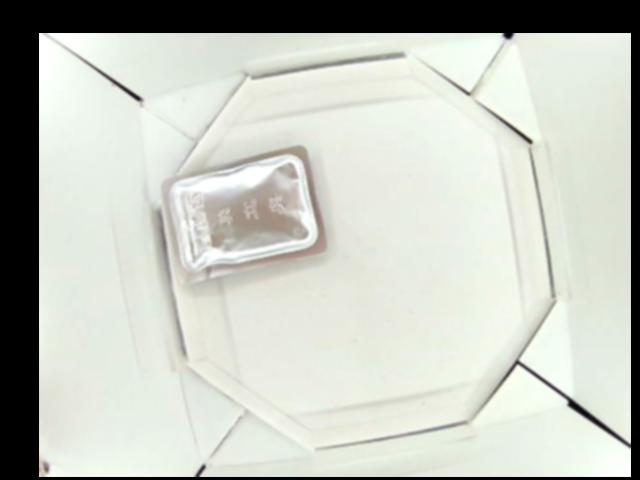Medicine: (163, 144, 326, 291)
